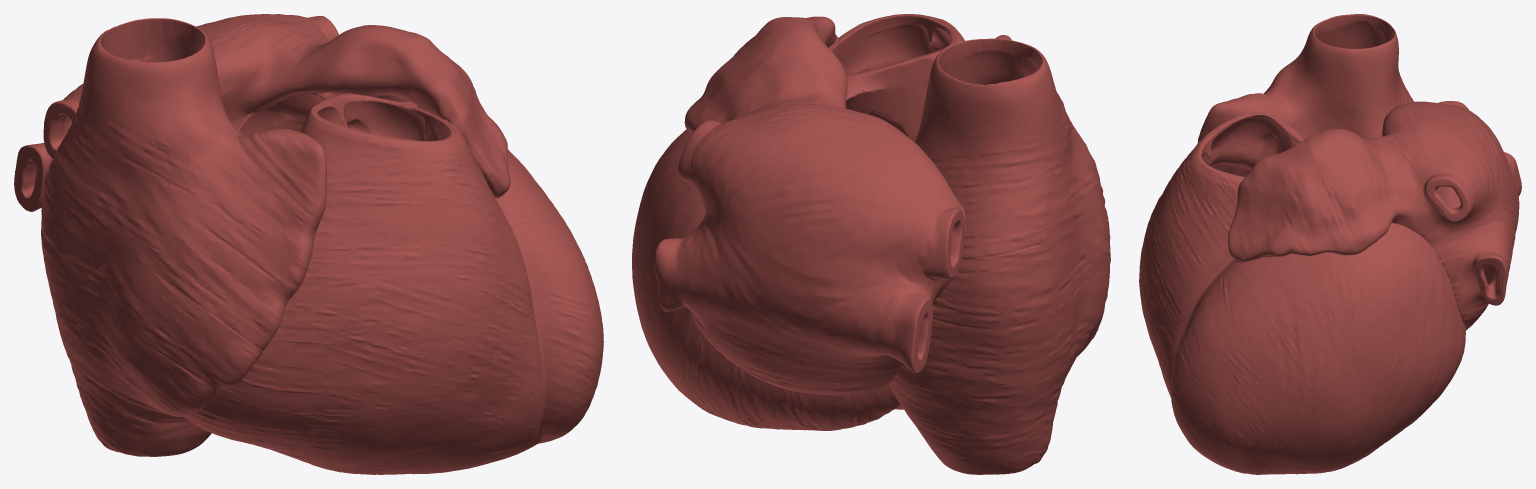
File: FMA7274.glb
3 renders of one model, left to right at view 1: azimuth 30°, elevation 25°; view 2: azimuth 150°, elevation 25°; view 3: azimuth 270°, elevation 25°, orthographic. The views are drawn at different scales.
Visible parts, largest first — view 1: FMA7274; view 2: FMA7274; view 3: FMA7274.
Part boxes in pixels (left/top/right/bottom): FMA7274: left=14, top=14, right=603, bottom=474; FMA7274: left=632, top=14, right=1110, bottom=474; FMA7274: left=1139, top=14, right=1521, bottom=474.
Bounding box in the file's own units: 0.1155 × 0.1053 × 0.1096.
